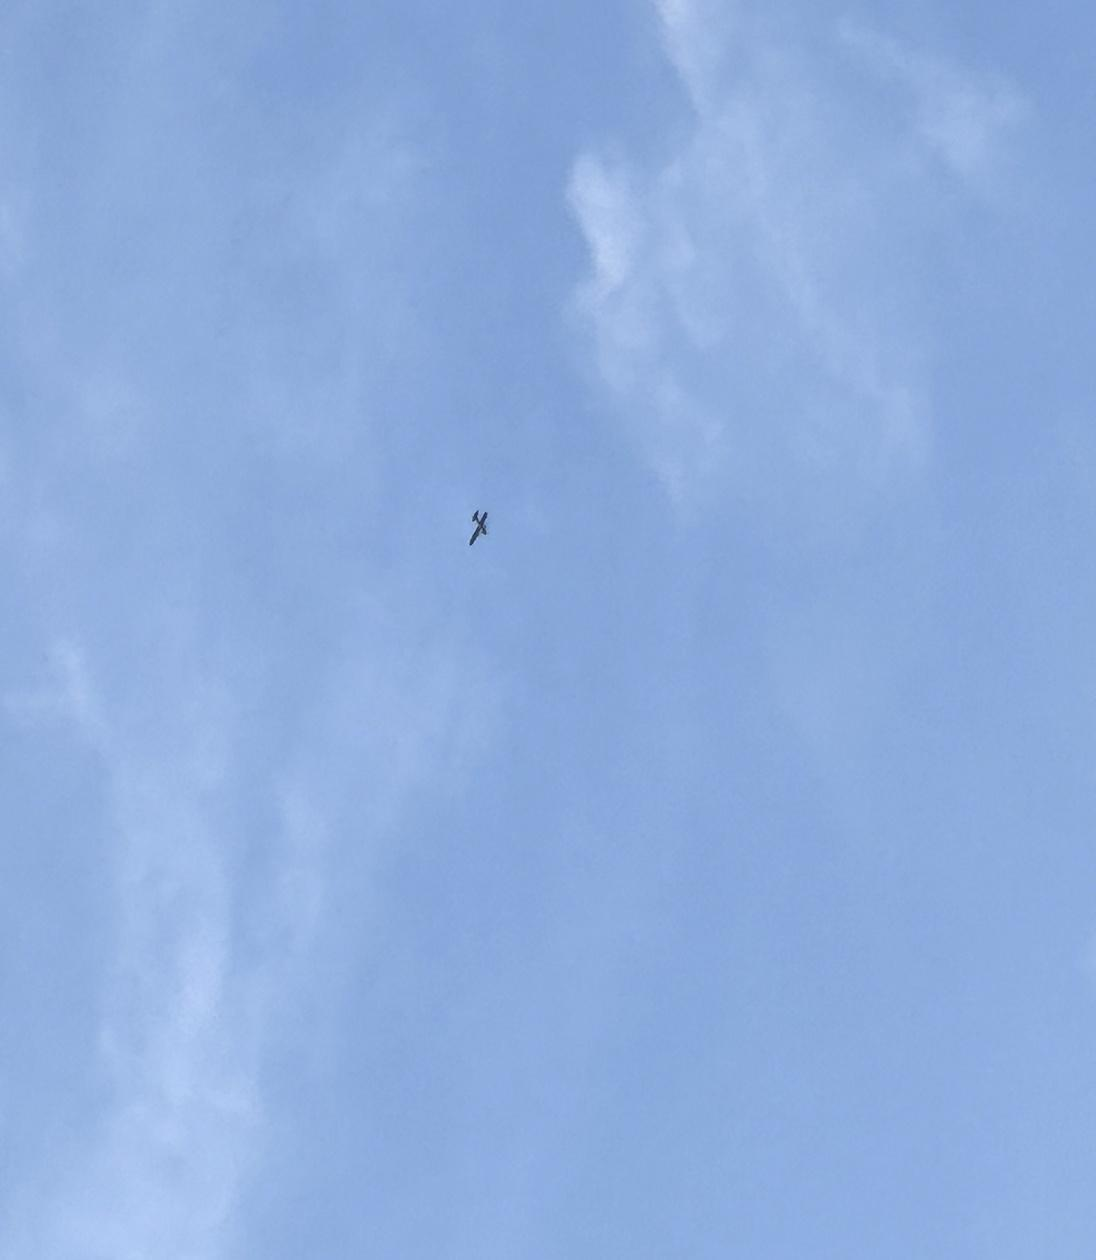Plane: (450, 490, 506, 566)
